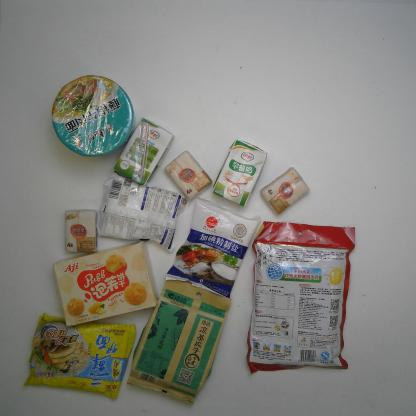Dessert: (50, 239, 160, 330)
Dried Food: (122, 277, 236, 408)
Instant Drink: (245, 217, 358, 375)
Instant Noodles: (22, 312, 138, 402), (47, 71, 135, 163)
Milk: (108, 116, 176, 188), (209, 138, 269, 209)
Seasoner: (163, 192, 265, 301), (92, 168, 192, 255)
Tissue: (258, 166, 312, 216), (164, 150, 214, 201), (63, 208, 99, 254)
